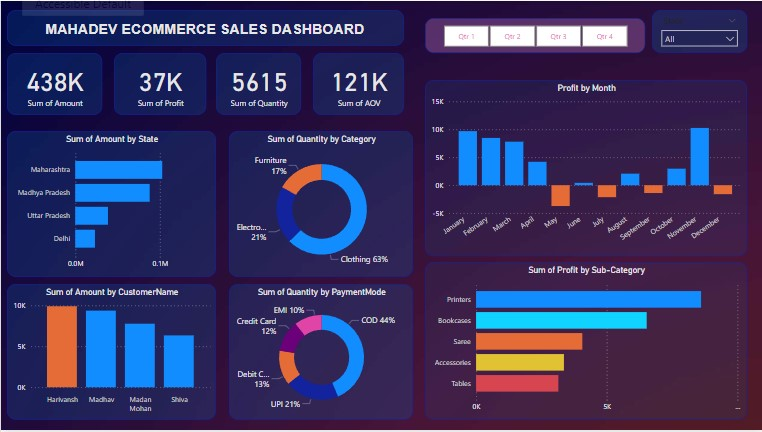

The dashboard page shown, as its layout file describes it:
{"tool":"powerbi","page":{"name":"Page 1","canvas":[1280,720],"ordinal":0},"visuals":[{"type":"textbox","box":[10.1,15.1,666.9,60.5],"z":0},{"type":"columnChart","title":"Profit by Month","fields":{"Category":["Orders.Order Date.Variation.Date Hierarchy.Month"],"Y":["Details.Profit"]},"box":[712.2,132.7,540.9,295.6],"z":1000},{"type":"barChart","fields":{"Category":["Details.Sub-Category"],"Y":["Details.Profit"]},"box":[712.2,438.4,540.9,265.4],"z":2000},{"type":"donutChart","fields":{"Category":["Details.Category"],"Y":["Details.Quantity"]},"box":[383,218.4,309.1,245.2],"z":3000},{"type":"donutChart","fields":{"Y":["Details.Quantity"],"Category":["Details.PaymentMode"]},"box":[383,475.4,309.1,228.5],"z":4000},{"type":"card","fields":{"Values":["Details.Profit"]},"box":[189.8,87.3,154.5,104.1],"z":5000},{"type":"card","fields":{"Values":["Details.Quantity"]},"box":[361.2,87.3,142.8,104.1],"z":6000},{"type":"card","fields":{"Values":["Details.Amount"]},"box":[10.1,87.3,159.6,104.1],"z":7000},{"type":"card","fields":{"Values":["Details.AOV"]},"box":[524.1,87.3,152.9,104.1],"z":8000},{"type":"barChart","fields":{"Category":["Orders.State"],"Y":["Details.Amount"]},"box":[10.1,218.4,351.1,245.2],"z":9000},{"type":"columnChart","fields":{"Category":["Orders.CustomerName"],"Y":["Details.Amount"]},"box":[10.1,475.4,351.1,228.5],"z":10000},{"type":"slicer","fields":{"Values":["Orders.Order Date.Variation.Date Hierarchy.Quarter"]},"box":[712.2,28.6,369.6,58.8],"z":11000},{"type":"slicer","fields":{"Values":["Orders.State"]},"box":[1093.5,15.1,159.6,72.2],"z":12000}]}

Visuals, with their boxes in screenshot pixels (x1, y1, x2, y2), scaled from the page's 1280x720 canvas onto the 762x432 screenshot:
textbox: [x1=6, y1=9, x2=403, y2=45]
"Profit by Month" columnChart: [x1=424, y1=80, x2=746, y2=257]
barChart - Details.Sub-Category x Details.Profit: [x1=424, y1=263, x2=746, y2=422]
donutChart - Details.Category x Details.Quantity: [x1=228, y1=131, x2=412, y2=278]
donutChart - Details.Quantity x Details.PaymentMode: [x1=228, y1=285, x2=412, y2=422]
card - Details.Profit: [x1=113, y1=52, x2=205, y2=115]
card - Details.Quantity: [x1=215, y1=52, x2=300, y2=115]
card - Details.Amount: [x1=6, y1=52, x2=101, y2=115]
card - Details.AOV: [x1=312, y1=52, x2=403, y2=115]
barChart - Orders.State x Details.Amount: [x1=6, y1=131, x2=215, y2=278]
columnChart - Orders.CustomerName x Details.Amount: [x1=6, y1=285, x2=215, y2=422]
slicer - Orders.Order Date.Variation.Date Hierarchy.Quarter: [x1=424, y1=17, x2=644, y2=52]
slicer - Orders.State: [x1=651, y1=9, x2=746, y2=52]
